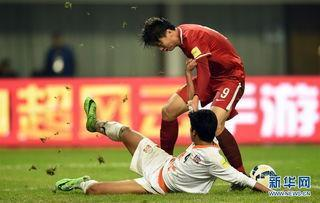Fall-Detected: (44, 85, 282, 198)
